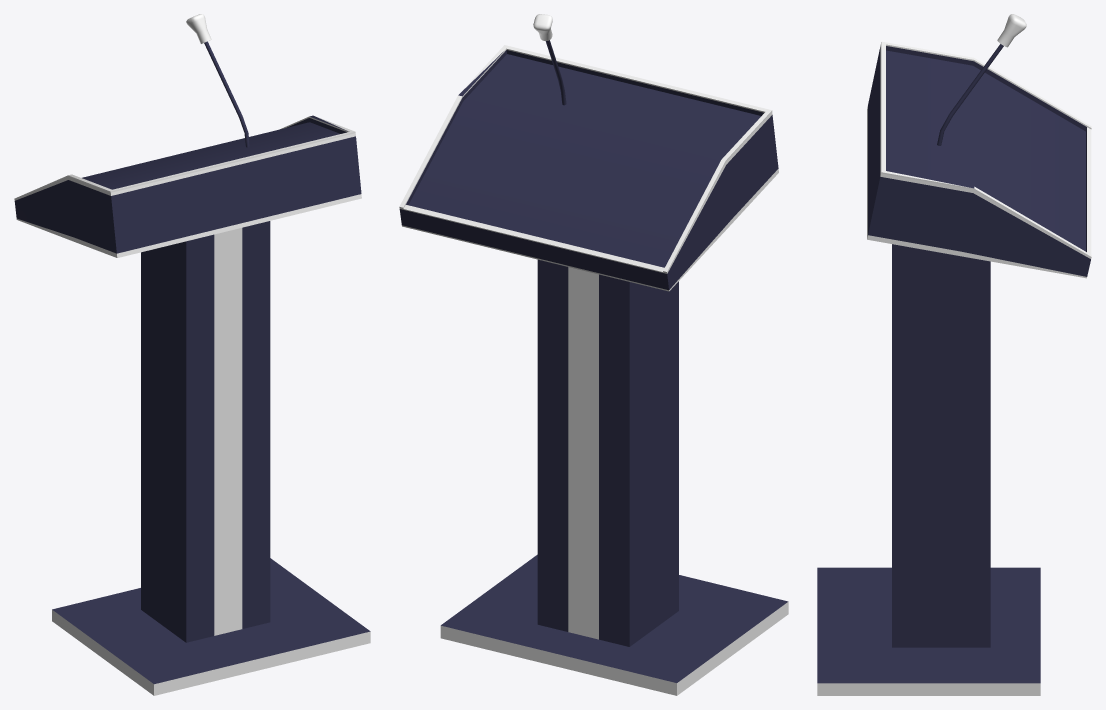
Rendered from Dice (1).fbx.
3 views of the same model, side by side, from view 1: azimuth 30°, elevation 25°; view 2: azimuth 150°, elevation 25°; view 3: azimuth 270°, elevation 25° (orthographic). The views are drawn at different scales.
Parts seen in each view (by area): view 1: Dice; view 2: Dice; view 3: Dice.
Part boxes in pixels (box(x1,y1,x2,y2)): Dice: box(14, 14, 370, 695); Dice: box(399, 14, 788, 695); Dice: box(817, 14, 1091, 695).
Bounding box in the file's own units: 2074 × 4705 × 1840.
